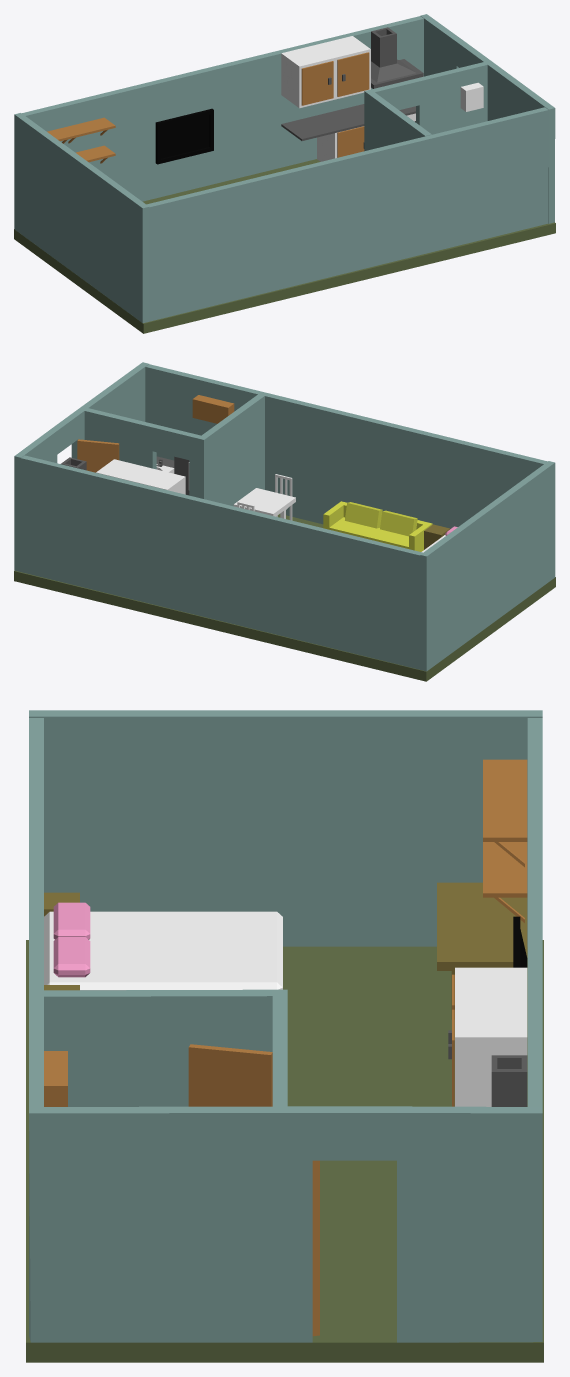
Rendered from room 2.fbx.
3 renders of one model, top to bottom at view 1: azimuth 30°, elevation 25°; view 2: azimuth 150°, elevation 25°; view 3: azimuth 270°, elevation 25°, orthographic. The views are drawn at different scales.
Visible parts, largest first — view 1: wall_south, wall_north, wall_west, floor1, wall_east, wall_bathroom_north, pCube21 (×3), pCube39 (×3), TV, wall_toilet_west, kitchen_table, extractor_fan_front (+3 smaller); view 2: wall_north, wall_south, wall_west, floor1, wall_toilet_west, wall_bathroom_north, wall_east, sofa_body, pCube21 (×2), dining_table, door_flat, closet_bathroom (+2 smaller); view 3: wall_east, wall_west, floor1, wall_toilet_west, bed_body, pCube21 (×2), desk, wall_north, wall_south, door_bathroom, shelf3, shelf2 (+7 smaller).
Part boxes in pixels (x1,y1,x2,y2): wall_south: (146, 107, 548, 321); wall_north: (22, 16, 423, 201); wall_west: (14, 113, 149, 322); floor1: (14, 159, 555, 333); wall_east: (420, 14, 555, 223); wall_bathroom_north: (364, 62, 487, 151); pCube21 (×3): (281, 36, 370, 161); pCube39 (×3): (301, 52, 369, 157); TV: (155, 108, 213, 164); wall_toilet_west: (368, 92, 431, 150); kitchen_table: (281, 104, 415, 140); extractor_fan_front: (371, 29, 423, 88); wall_north: (21, 455, 422, 669); wall_south: (145, 364, 547, 528); wall_west: (420, 461, 555, 671); floor1: (14, 514, 555, 681); wall_toilet_west: (202, 394, 264, 506); wall_bathroom_north: (84, 408, 207, 499); wall_east: (14, 362, 148, 571); sofa_body: (323, 501, 432, 551); pCube21 (×2): (96, 459, 185, 494); dining_table: (233, 488, 295, 518); door_flat: (77, 439, 119, 472); closet_bathroom: (192, 395, 234, 423); wall_east: (29, 1106, 542, 1342); wall_west: (29, 710, 542, 946); floor1: (26, 940, 543, 1362); wall_toilet_west: (44, 989, 272, 1106); bed_body: (44, 911, 282, 990); pCube21 (×2): (455, 967, 527, 1106); desk: (437, 882, 527, 1019); wall_north: (527, 718, 542, 1106); wall_south: (29, 718, 43, 1106); door_bathroom: (188, 1044, 272, 1106); shelf3: (483, 798, 527, 867); shelf2: (483, 854, 527, 922).
Bounding box in the file's own units: 1867 × 541 × 1015.
Materials: 11 (11 with a texture image).
